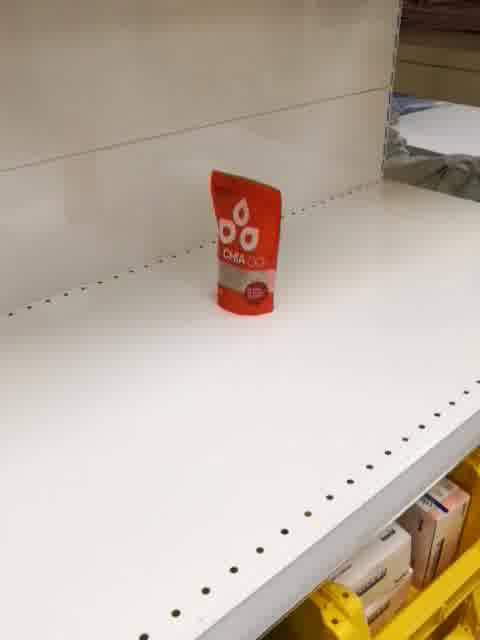whitechia: (207, 165, 284, 320)
